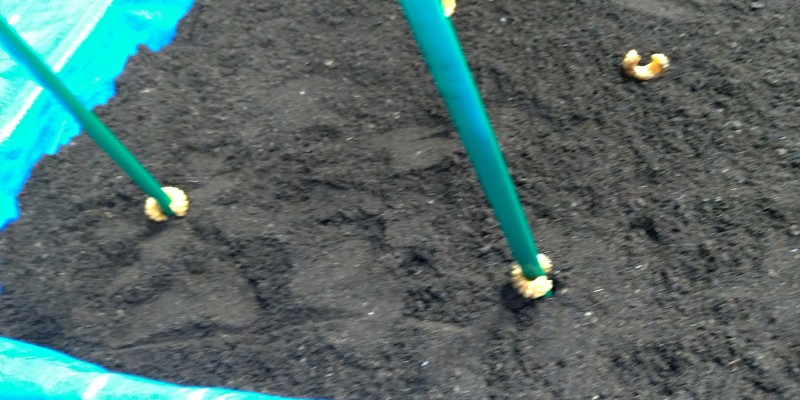eggs: (507, 247, 555, 307), (616, 46, 672, 85), (144, 186, 187, 224), (430, 1, 458, 28)
